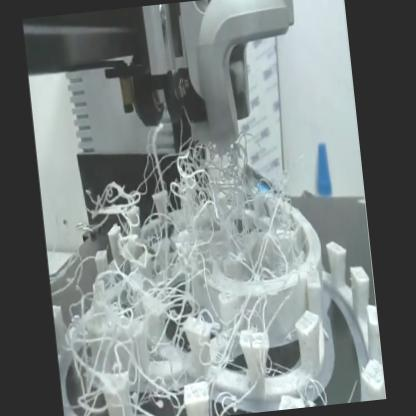fail: (55, 123, 304, 408)
